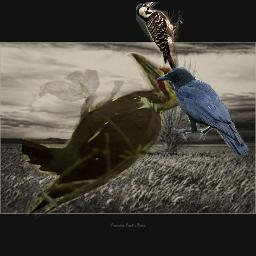Crow: (156, 67, 250, 158)
Woodpecker: (22, 53, 201, 219), (136, 2, 183, 82)
